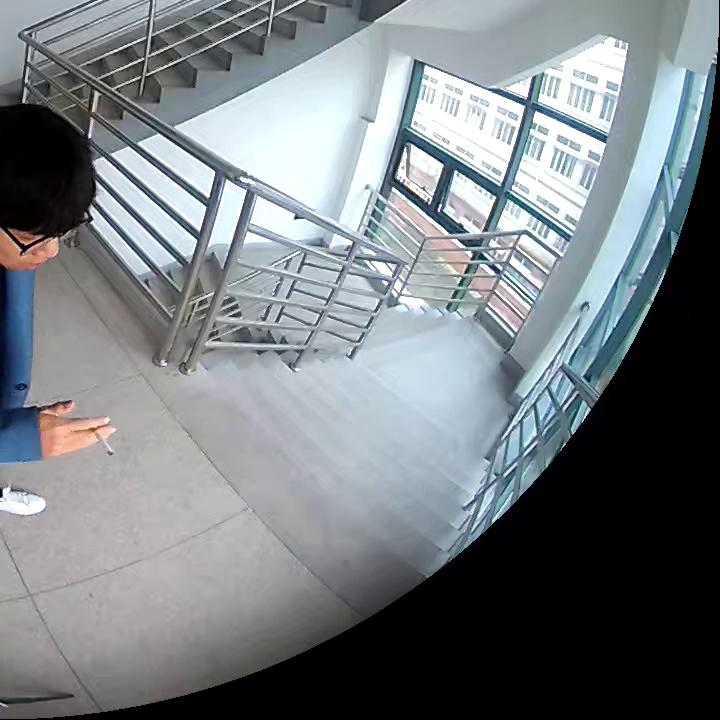handsmoke: (41, 398, 121, 457)
mouthwithoutsmoke: (1, 102, 97, 272)
